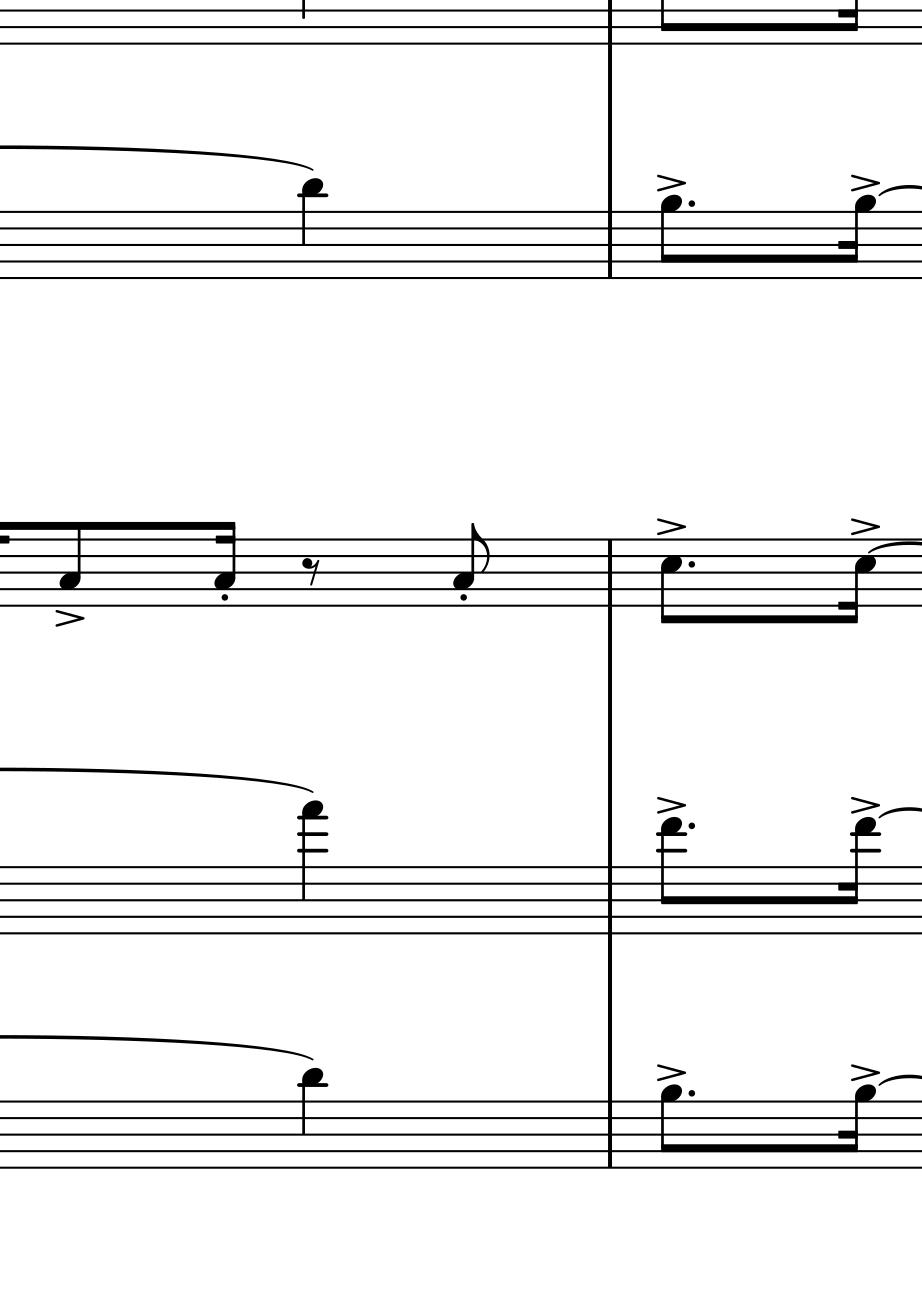16_13: (841, 813, 878, 941)
16_3: (212, 519, 237, 608)
16_5: (840, 539, 877, 625)
16_9: (841, 1083, 875, 1172), (841, 194, 875, 281)
4_11: (298, 176, 327, 285), (299, 1067, 327, 1174)
4_15: (297, 797, 322, 937)
8_13: (658, 816, 686, 939)
8_3: (451, 520, 491, 609), (57, 520, 85, 608)
8_5: (658, 537, 683, 626)
8_9: (658, 193, 684, 282), (658, 1084, 684, 1172)
Accent_above: (53, 606, 86, 628), (848, 516, 880, 538), (848, 795, 881, 816), (848, 1062, 881, 1083), (847, 173, 881, 193), (654, 516, 686, 537), (653, 173, 686, 193), (654, 1061, 685, 1082), (656, 793, 686, 813)
Rests8: (299, 555, 323, 588)
Single_barline: (598, 866, 622, 935), (599, 1100, 622, 1168), (599, 539, 621, 607), (599, 211, 621, 278)
dot: (684, 558, 698, 572), (684, 198, 697, 211), (684, 1087, 697, 1100), (685, 820, 697, 832)
